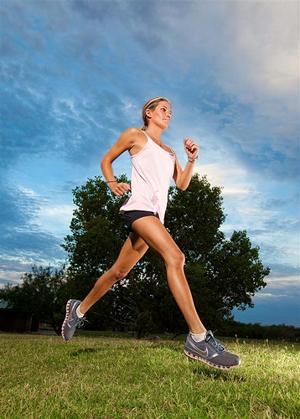person: (62, 94, 241, 379)
